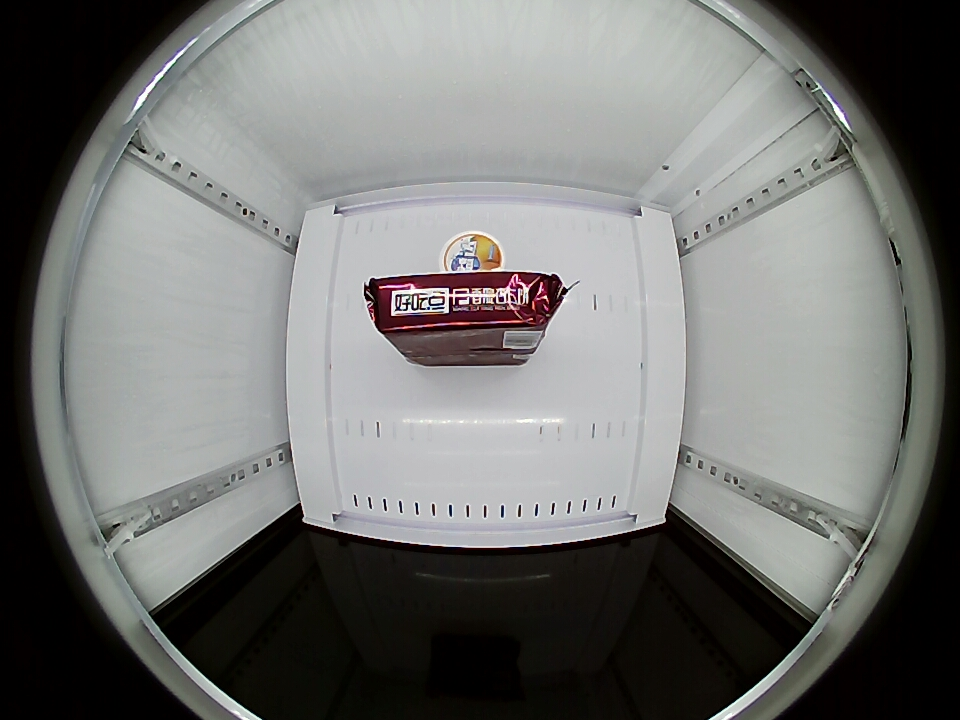haochidian: (365, 270, 566, 360)
